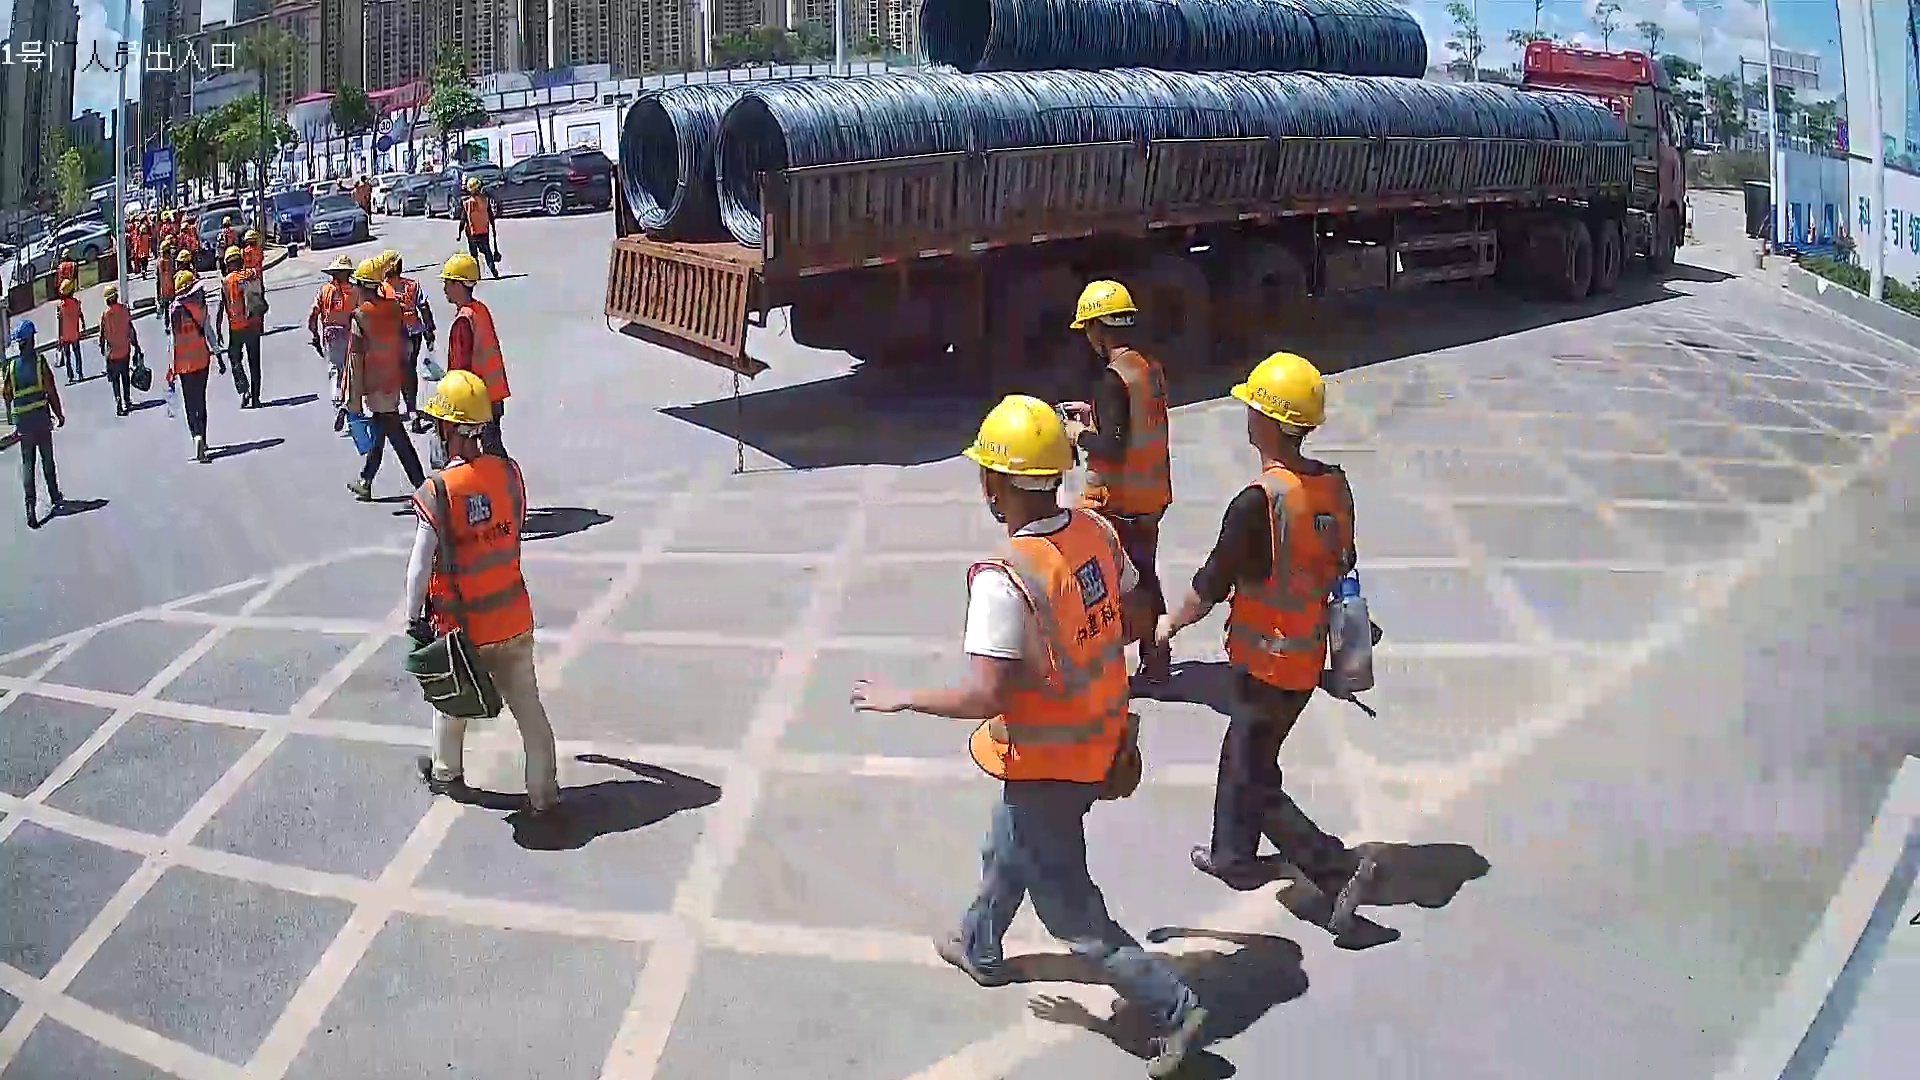person: (847, 388, 1211, 1080), (1159, 344, 1380, 941), (401, 369, 568, 836), (1055, 265, 1179, 699), (343, 258, 428, 509), (437, 251, 513, 456), (2, 318, 68, 535), (164, 268, 226, 464), (214, 242, 271, 409), (307, 252, 357, 431), (99, 280, 140, 416), (455, 173, 505, 280), (54, 276, 88, 386)
reflective_vest: (959, 511, 1130, 784), (1218, 462, 1357, 694), (409, 451, 535, 647), (1078, 349, 1178, 516), (450, 300, 513, 401), (349, 298, 406, 392), (9, 351, 51, 430), (221, 267, 265, 332), (172, 301, 210, 374), (318, 279, 360, 339), (379, 277, 421, 328), (102, 305, 134, 361), (462, 193, 491, 236), (57, 299, 81, 342)
safety_helmet: (958, 389, 1076, 528), (1226, 343, 1335, 456), (1064, 269, 1142, 358), (421, 367, 495, 459), (438, 252, 481, 305), (351, 257, 386, 297), (12, 317, 37, 351), (173, 268, 197, 302), (380, 248, 403, 279), (222, 242, 245, 272), (102, 281, 119, 305), (465, 174, 483, 196), (58, 277, 75, 299)
